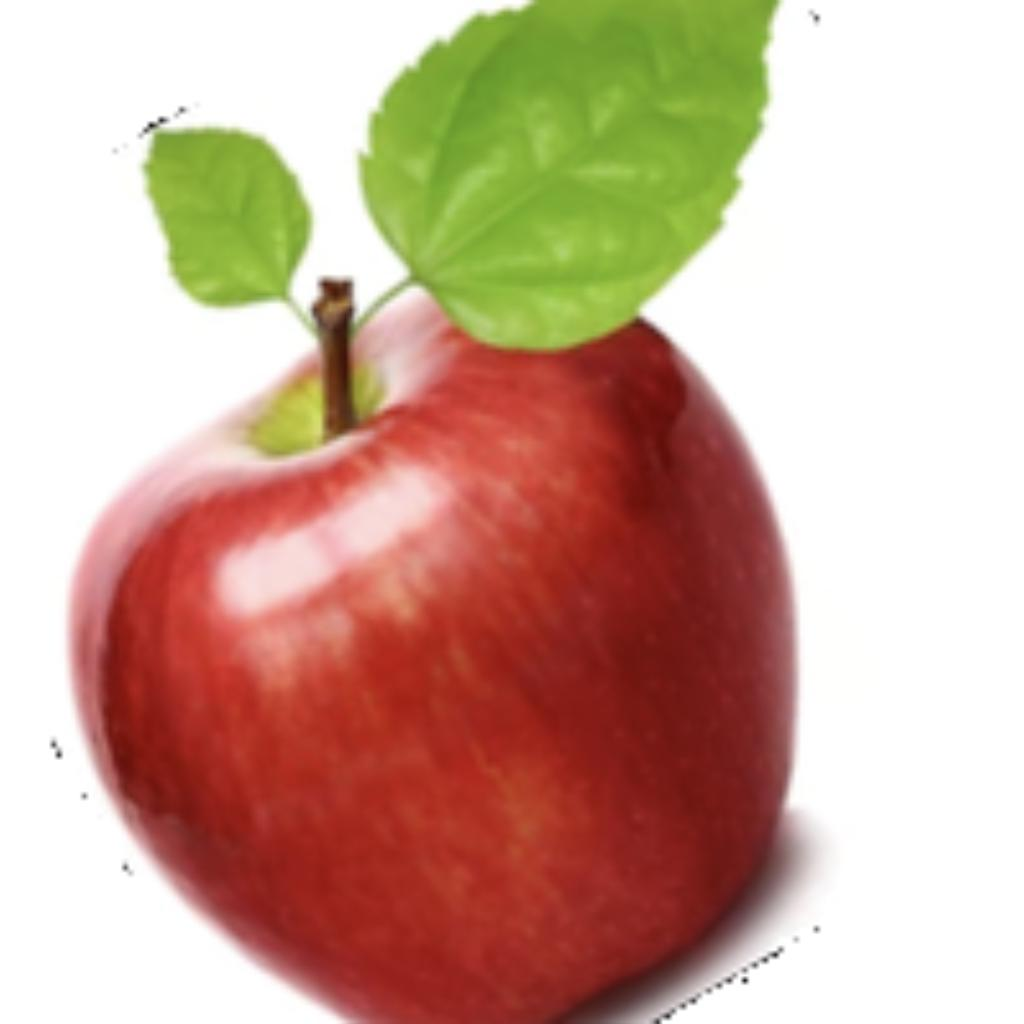apple: (56, 0, 840, 1019)
